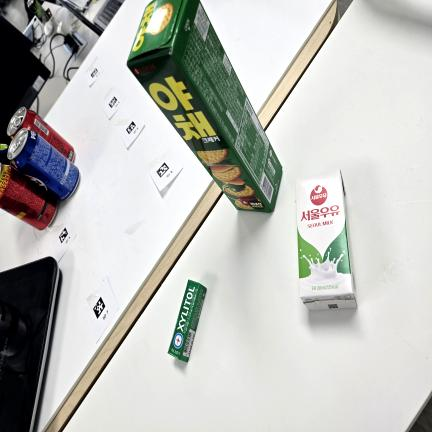cracker_vege: (127, 0, 282, 213)
gum_green: (168, 280, 206, 362)
milk_green: (296, 170, 357, 310)
